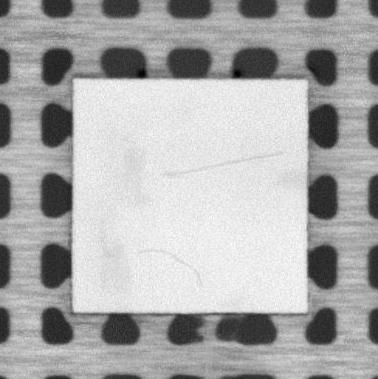DIE_CRACK: (162, 150, 284, 178), (135, 247, 201, 285)
